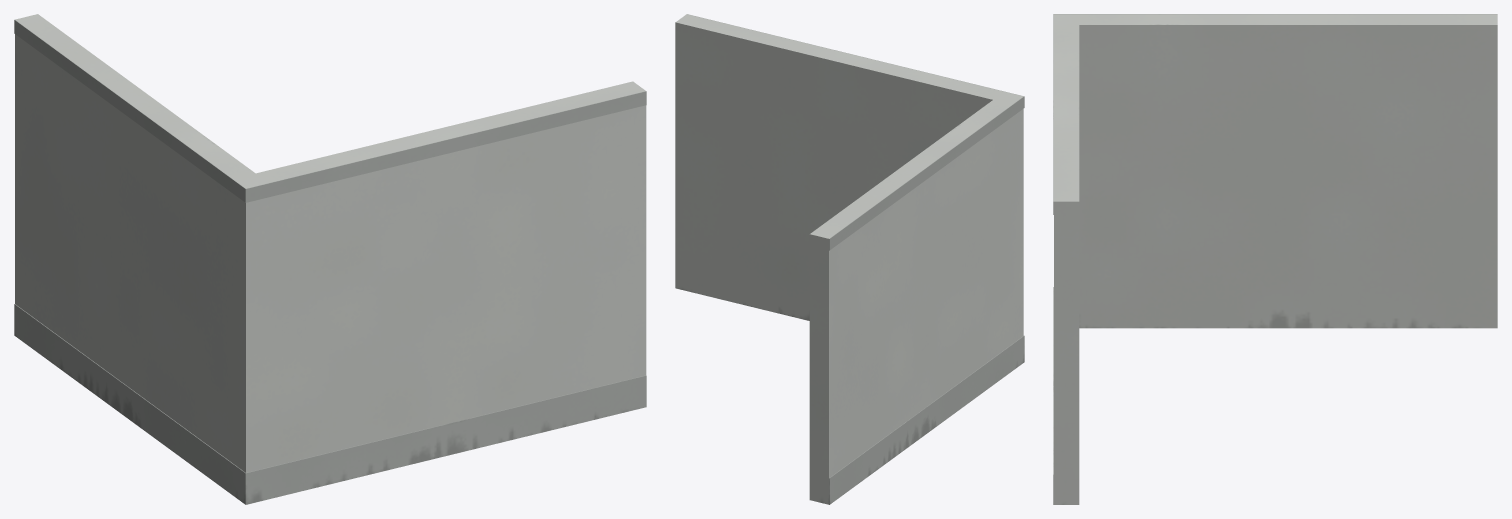
Rendered from facade_corner_4m.glb.
The picture shows the model from 3 angles, left to right: view 1: azimuth 30°, elevation 25°; view 2: azimuth 150°, elevation 25°; view 3: azimuth 270°, elevation 25°; orthographic projection. The views are drawn at different scales.
Visible parts, largest first — view 1: FacadeCorner; view 2: FacadeCorner; view 3: FacadeCorner.
Part boxes in pixels (left/top/right/bottom): FacadeCorner: left=14, top=14, right=646, bottom=504; FacadeCorner: left=675, top=14, right=1024, bottom=504; FacadeCorner: left=1053, top=14, right=1497, bottom=504.
Size of what is drawn, in the model's own units: 4.25 by 3.2 by 4.25.
Materials: 1 (1 with a texture image).
